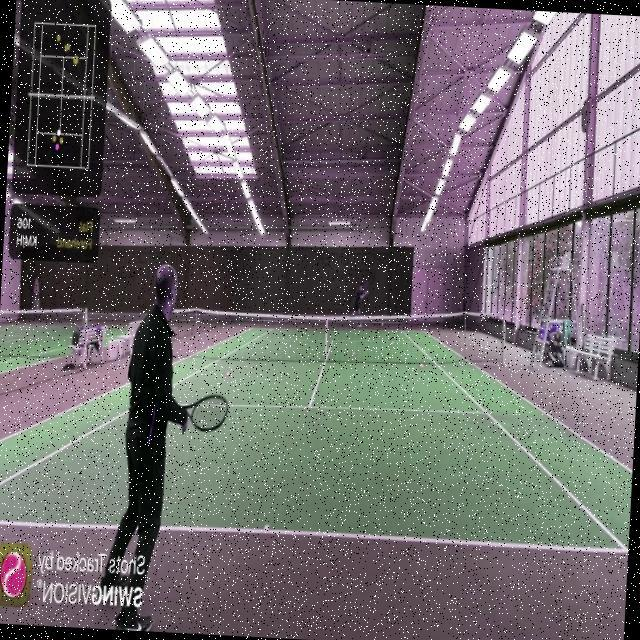court: (0, 309, 639, 558)
net: (152, 300, 506, 374)
player: (97, 260, 235, 635)
